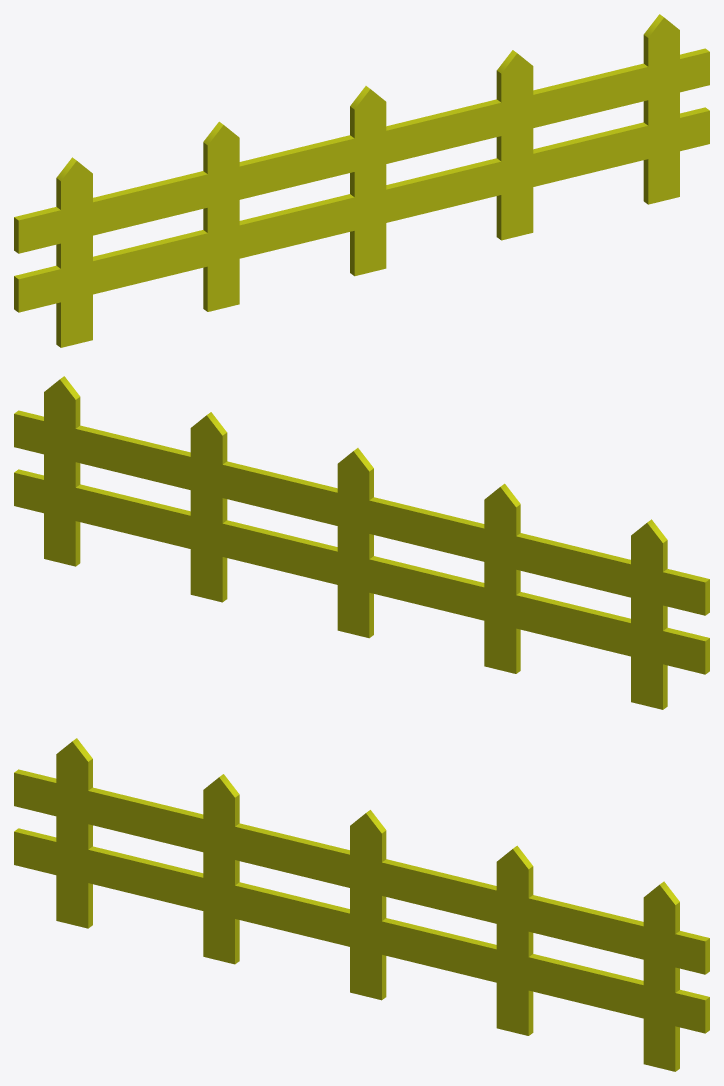
The model's file is Fence.FBX.
3 views of the same model, one above another, from view 1: azimuth 30°, elevation 25°; view 2: azimuth 150°, elevation 25°; view 3: azimuth 330°, elevation 25° (orthographic).
Parts seen in each view (by area): view 1: Box007, Box002, Box001, Box005, Box004, Box006, Box003; view 2: Box002, Box007, Box005, Box004, Box003, Box001, Box006; view 3: Box007, Box002, Box005, Box001, Box003, Box006, Box004.
Boxes of the visible parts, x1=… form: Box007: x1=14, y1=107, x2=709, y2=312; Box002: x1=14, y1=48, x2=709, y2=253; Box001: x1=56, y1=157, x2=92, y2=347; Box005: x1=496, y1=50, x2=533, y2=240; Box004: x1=350, y1=86, x2=386, y2=276; Box006: x1=643, y1=14, x2=679, y2=204; Box003: x1=203, y1=121, x2=239, y2=311; Box002: x1=14, y1=410, x2=709, y2=615; Box007: x1=14, y1=469, x2=709, y2=674; Box005: x1=190, y1=412, x2=227, y2=602; Box004: x1=337, y1=448, x2=373, y2=638; Box003: x1=484, y1=483, x2=520, y2=673; Box001: x1=631, y1=519, x2=667, y2=709; Box006: x1=44, y1=376, x2=80, y2=566; Box007: x1=14, y1=828, x2=709, y2=1033; Box002: x1=14, y1=769, x2=709, y2=974; Box005: x1=496, y1=845, x2=533, y2=1035; Box001: x1=56, y1=738, x2=92, y2=928; Box003: x1=203, y1=774, x2=239, y2=964; Box006: x1=643, y1=881, x2=679, y2=1071; Box004: x1=350, y1=810, x2=386, y2=1000.
Bounding box in the file's own units: 4.34 × 1.1 × 0.05.
